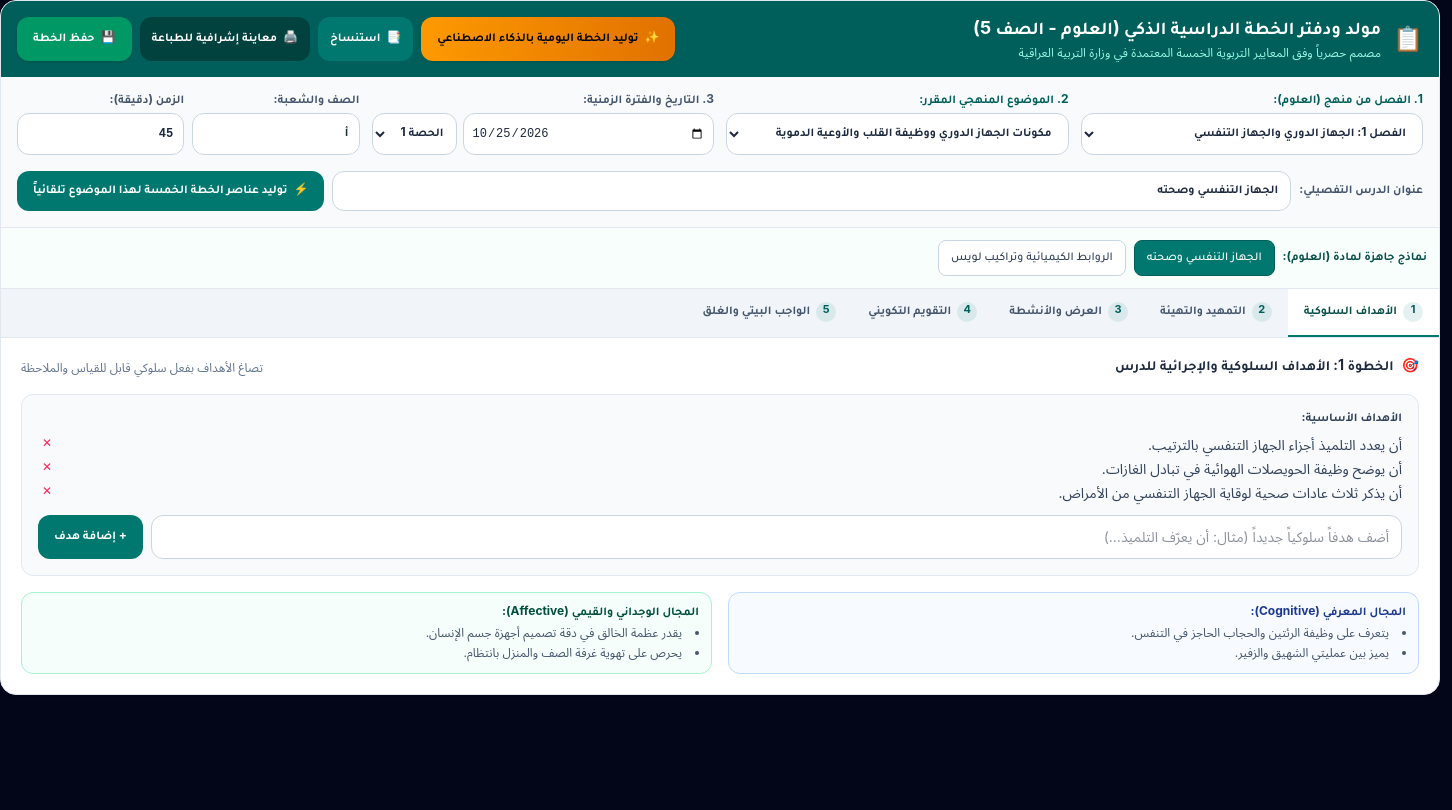
Scenario: Milestone 6: Curriculum & Lesson Plans Studio › 1. 5-Step Ministerial Lesson Plan Editor › allows switching between the 5 steps and editing content
This screenshot has width=1452, height=810.
Step 1. Click the button "2 التمهيد والتهيئة" → click(1216, 313), box x1=1144 y1=289 x2=1288 y2=337
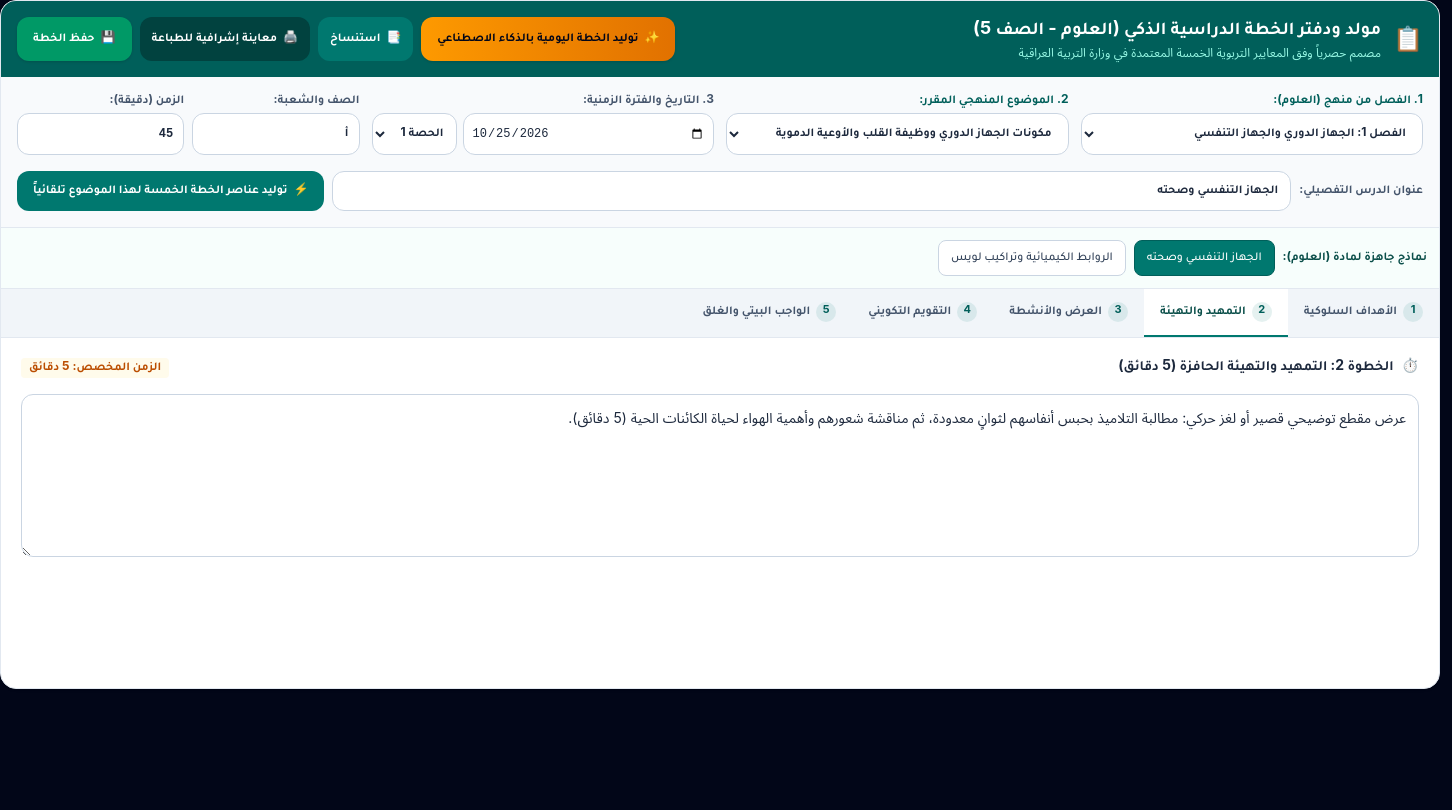
Now the text box is shown, box x1=21 y1=394 x2=1419 y2=556
